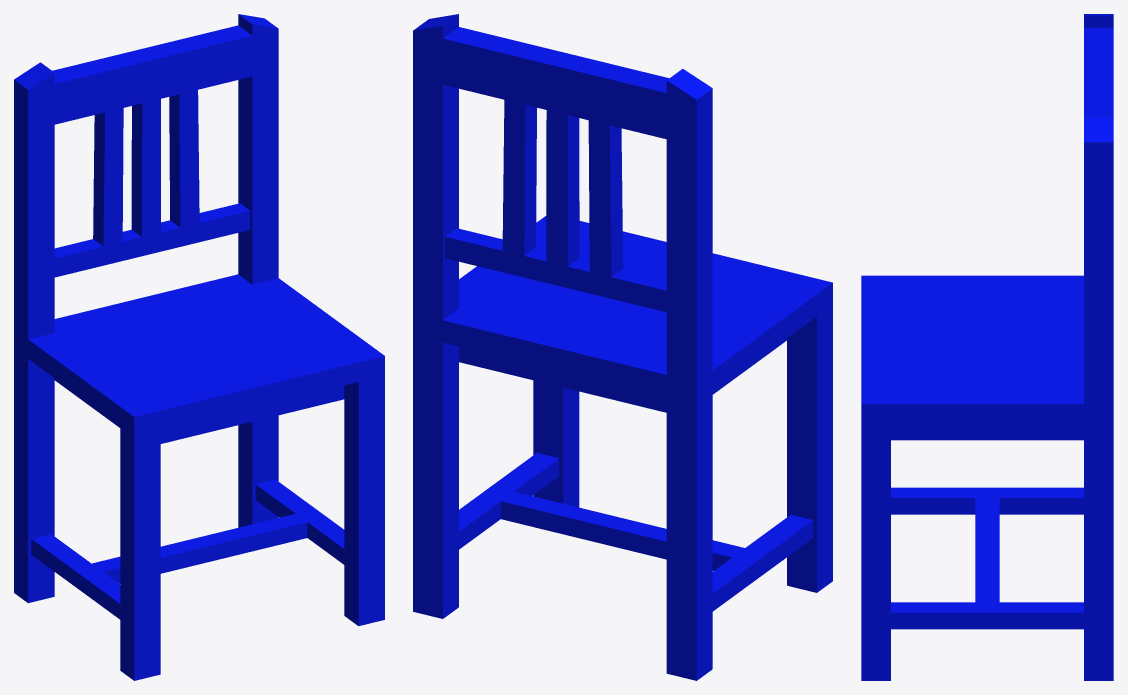
Rendered from Tutorial_Model_Environment_WoodenChair.fbx.
The picture shows the model from 3 angles, left to right: view 1: azimuth 30°, elevation 25°; view 2: azimuth 150°, elevation 25°; view 3: azimuth 270°, elevation 25°; orthographic projection. The views are drawn at different scales.
Parts seen in each view (by area): view 1: Wooden Chair; view 2: Wooden Chair; view 3: Wooden Chair.
Part boxes in pixels (x1=…): Wooden Chair: x1=14, y1=14, x2=384, y2=680; Wooden Chair: x1=413, y1=14, x2=832, y2=680; Wooden Chair: x1=861, y1=14, x2=1113, y2=680.
Bounding box in the file's own units: 24.92 × 49.81 × 20.72.
